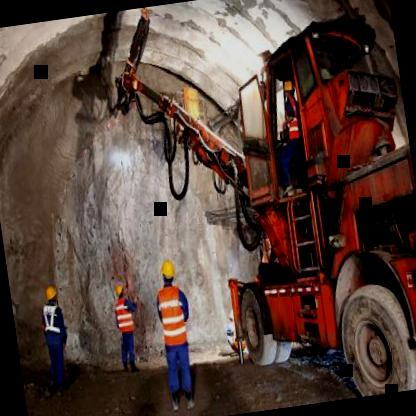helmet: (158, 255, 184, 295), (42, 278, 60, 310), (279, 72, 296, 104), (113, 282, 130, 304)
